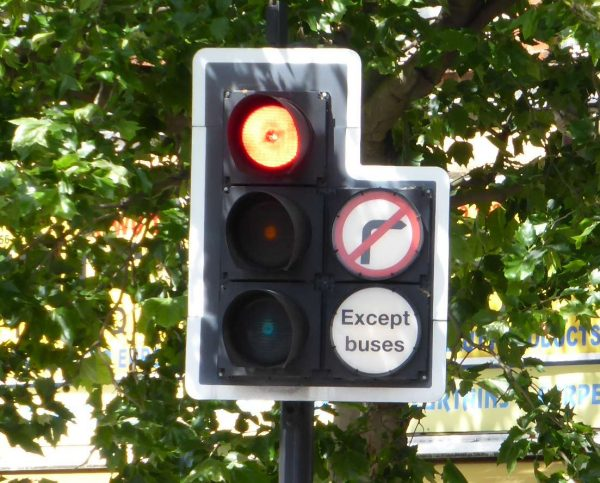No_right_turn: (330, 189, 423, 278)
